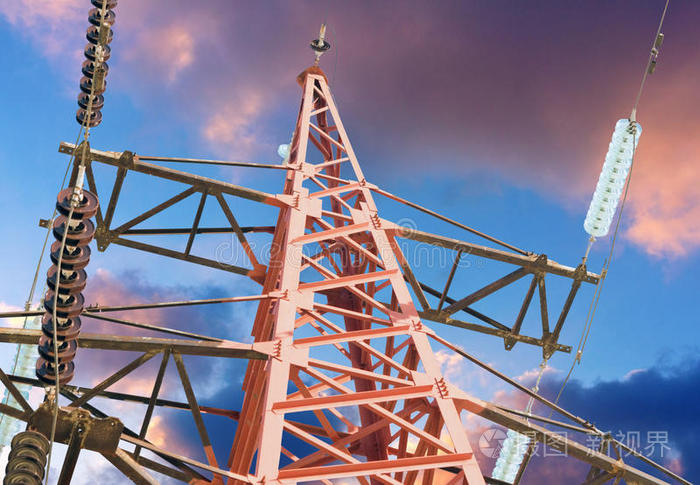insulator: (38, 188, 98, 387), (583, 121, 643, 234), (77, 1, 117, 127), (5, 430, 49, 485), (490, 431, 527, 485)
